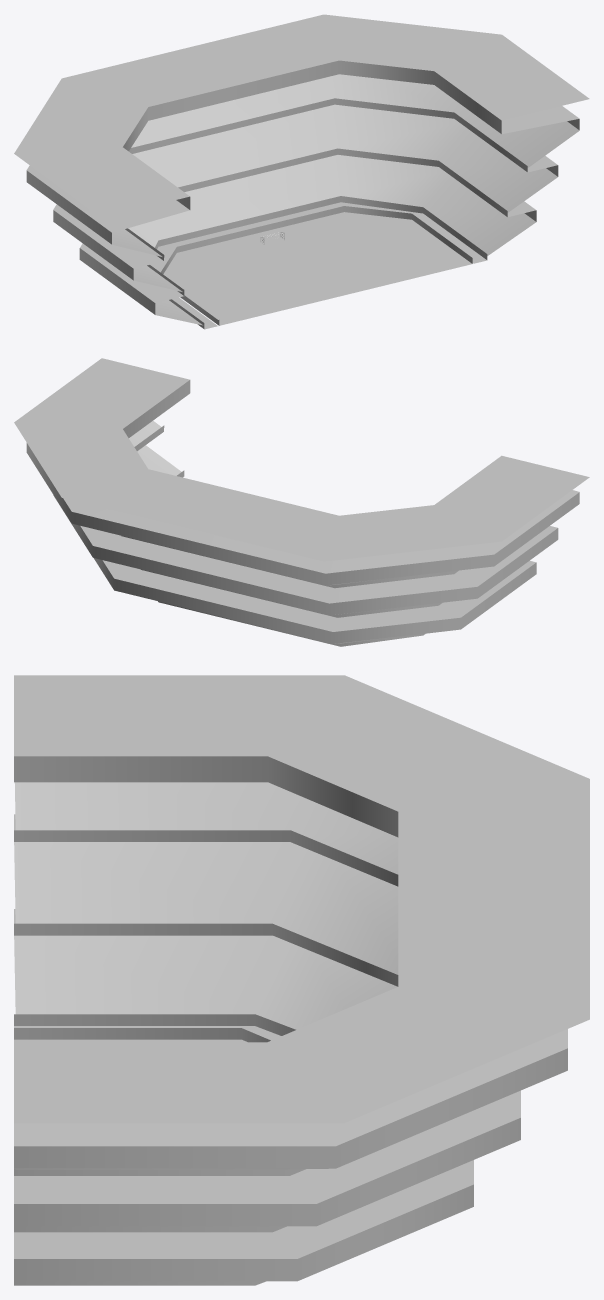
The model's file is stadion_rev.FBX.
3 renders of one model, top to bottom at view 1: azimuth 30°, elevation 25°; view 2: azimuth 150°, elevation 25°; view 3: azimuth 270°, elevation 25°, orthographic. The views are drawn at different scales.
Visible parts, largest first — view 1: soccer_field; view 2: soccer_field; view 3: soccer_field.
Boxes of the visible parts, box(x1,y1,x2,y2) form: soccer_field: box(14, 14, 589, 329); soccer_field: box(14, 358, 589, 646); soccer_field: box(14, 675, 589, 1285).
Size of the model in its own units: 562052 by 150496 by 305413.
